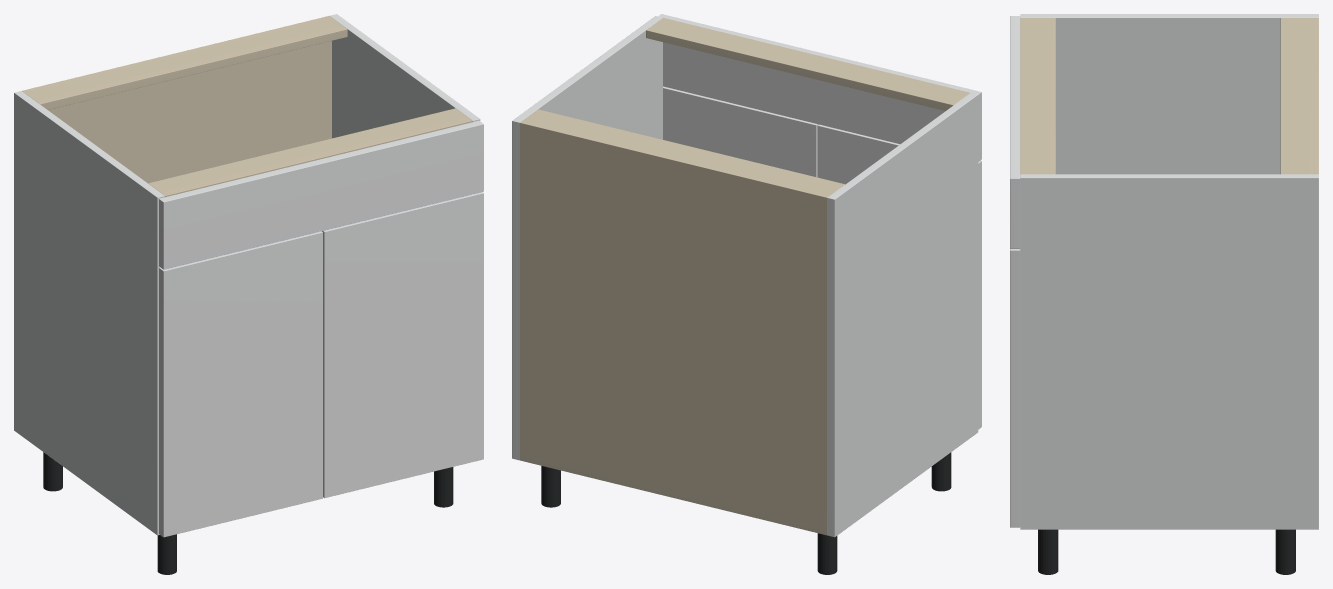
Rendered from oppein-ply-pgw-sb30.glb.
3 renders of one model, left to right at view 1: azimuth 30°, elevation 25°; view 2: azimuth 150°, elevation 25°; view 3: azimuth 270°, elevation 25°, orthographic. The views are drawn at different scales.
Parts seen in each view (by area): view 1: Cabinet side, Door, Door.001, Cabinet back, False drawer front, Cabinet side.001, Top support rail, Top support rail.001, Adjustable foot.001, Adjustable foot.003, Adjustable foot; view 2: Cabinet back, Cabinet side, False drawer front, Cabinet side.001, Door.001, Top support rail.001, Top support rail, Door, Cabinet bottom, Adjustable foot, Adjustable foot.002, Adjustable foot.001; view 3: Cabinet side.001, Cabinet side, Top support rail.001, Top support rail, Door.001, False drawer front, Adjustable foot.003, Adjustable foot.002, Cabinet back.
Boxes of the visible parts, x1,y1,x2,y2 form: Cabinet side: [14, 91, 164, 535]; Door: [159, 231, 322, 537]; Door.001: [322, 192, 483, 498]; Cabinet back: [22, 16, 331, 183]; False drawer front: [159, 120, 483, 269]; Cabinet side.001: [329, 14, 480, 138]; Top support rail: [23, 18, 347, 109]; Top support rail.001: [148, 108, 472, 197]; Adjustable foot.001: [157, 534, 176, 574]; Adjustable foot.003: [434, 467, 453, 507]; Adjustable foot: [43, 452, 62, 491]; Cabinet back: [519, 120, 829, 535]; Cabinet side: [827, 93, 978, 537]; False drawer front: [658, 14, 981, 161]; Cabinet side.001: [512, 16, 662, 460]; Door.001: [663, 86, 818, 177]; Top support rail.001: [646, 18, 970, 110]; Top support rail: [523, 109, 844, 195]; Door: [817, 124, 981, 429]; Cabinet bottom: [520, 453, 826, 534]; Adjustable foot: [817, 533, 837, 574]; Adjustable foot.002: [541, 466, 560, 507]; Adjustable foot.001: [931, 452, 951, 491]; Cabinet side.001: [1020, 174, 1318, 529]; Cabinet side: [1020, 14, 1318, 174]; Top support rail.001: [1020, 18, 1055, 174]; Top support rail: [1280, 18, 1315, 174]; Door.001: [1010, 249, 1020, 527]; False drawer front: [1010, 16, 1020, 248]; Adjustable foot.003: [1038, 529, 1058, 574]; Adjustable foot.002: [1275, 529, 1295, 574]; Cabinet back: [1313, 18, 1318, 174].
Bounding box in the file's own units: 0.762 × 0.8763 × 0.6064.
